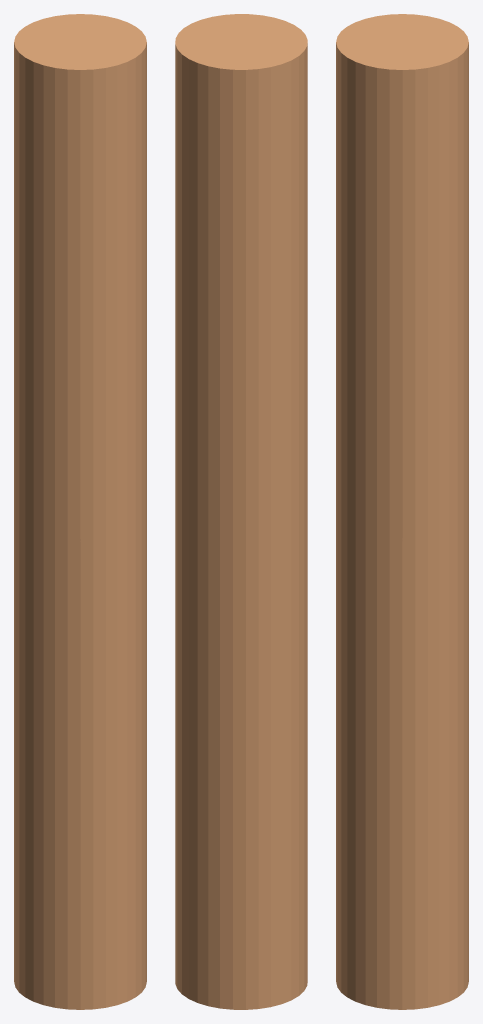
The model's file is cilindro.fbx.
The picture shows the model from 3 angles, left to right: view 1: azimuth 90°, elevation 25°; view 2: azimuth 150°, elevation 25°; view 3: azimuth 270°, elevation 25°; orthographic projection.
Visible parts, largest first — view 1: Circle; view 2: Circle; view 3: Circle.
Boxes of the visible parts, <box> form: Circle: <box>14,14,146,1009</box>; Circle: <box>175,14,307,1009</box>; Circle: <box>336,14,468,1009</box>.
Size of the model in its own units: 67.78 by 530 by 67.78.
